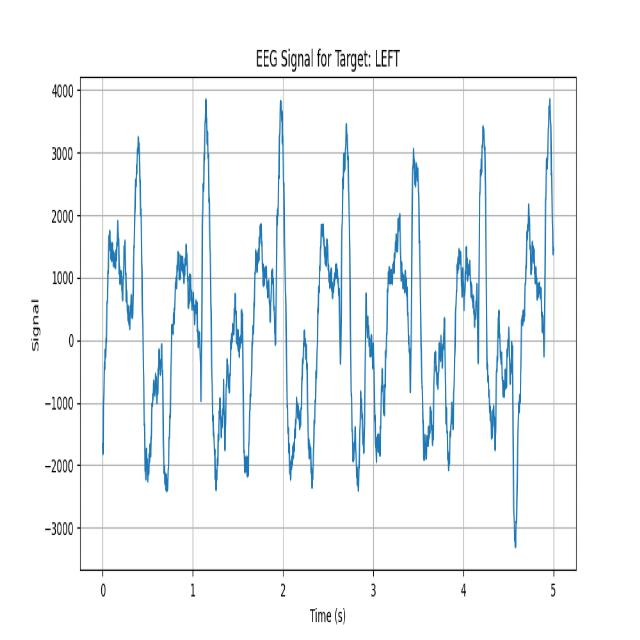LEFT: (370, 88, 444, 532), (306, 89, 371, 525), (444, 91, 507, 538), (239, 91, 305, 516), (174, 89, 239, 518), (111, 124, 175, 523)
